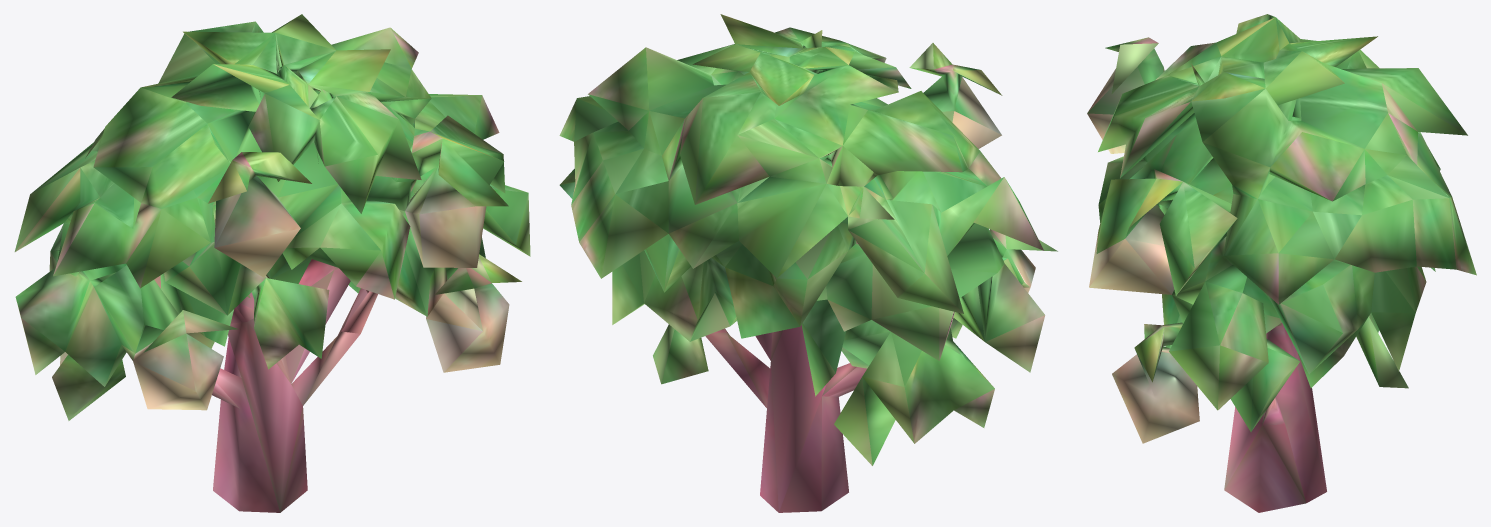
Rendered from tree-fruit.glb.
3 views of the same model, side by side, from view 1: azimuth 30°, elevation 25°; view 2: azimuth 150°, elevation 25°; view 3: azimuth 270°, elevation 25° (orthographic). The views are drawn at different scales.
Parts seen in each view (by area): view 1: plant_tree-fruit; view 2: plant_tree-fruit; view 3: plant_tree-fruit.
Boxes of the visible parts, box(x1,y1,x2,y2) form: plant_tree-fruit: box(14, 14, 530, 512); plant_tree-fruit: box(559, 14, 1057, 512); plant_tree-fruit: box(1087, 14, 1476, 512).
Bounding box in the file's own units: 1.15 × 1 × 0.7747.
Materials: 1 (1 with a texture image).
